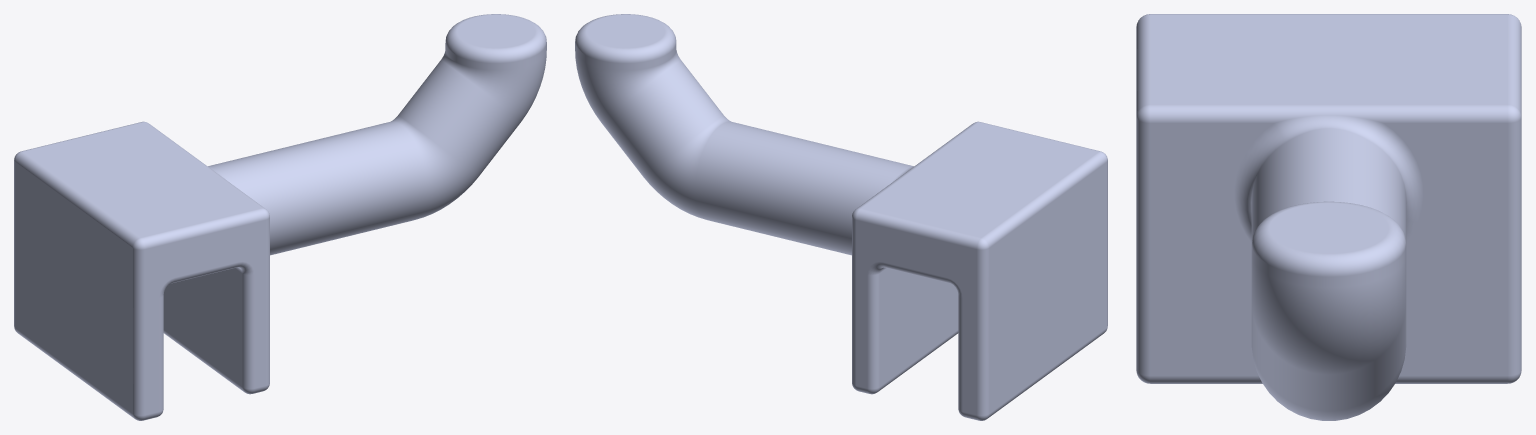
The model's file is Chopstick Holder Addon.gltf.
3 renders of one model, left to right at view 1: azimuth 30°, elevation 25°; view 2: azimuth 150°, elevation 25°; view 3: azimuth 270°, elevation 25°, orthographic. The views are drawn at different scales.
Visible parts, largest first — view 1: Chopstick Holder Addon; view 2: Chopstick Holder Addon; view 3: Chopstick Holder Addon.
Boxes of the visible parts, x1,y1,x2,y2 form: Chopstick Holder Addon: (14,14,546,420); Chopstick Holder Addon: (575,14,1107,420); Chopstick Holder Addon: (1136,14,1521,420).
Size of the model in its own units: 0.0468 by 0.0235 by 0.022.
